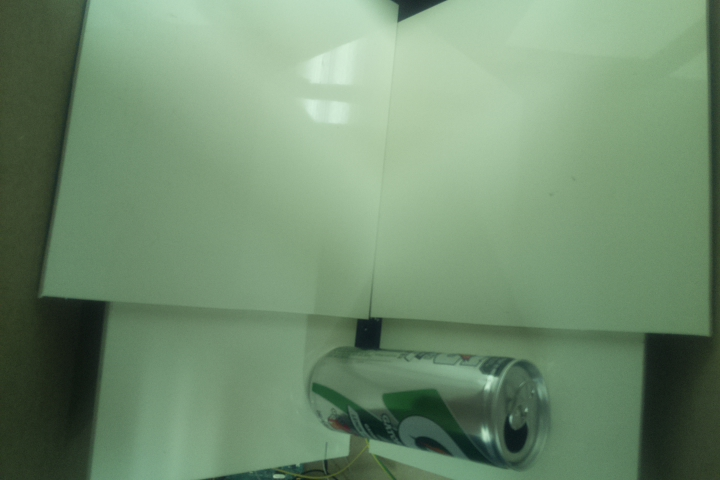can: (305, 342, 556, 476)
